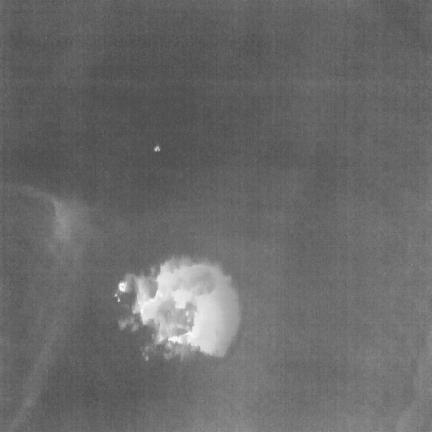flukeprints: (116, 258, 240, 356)
